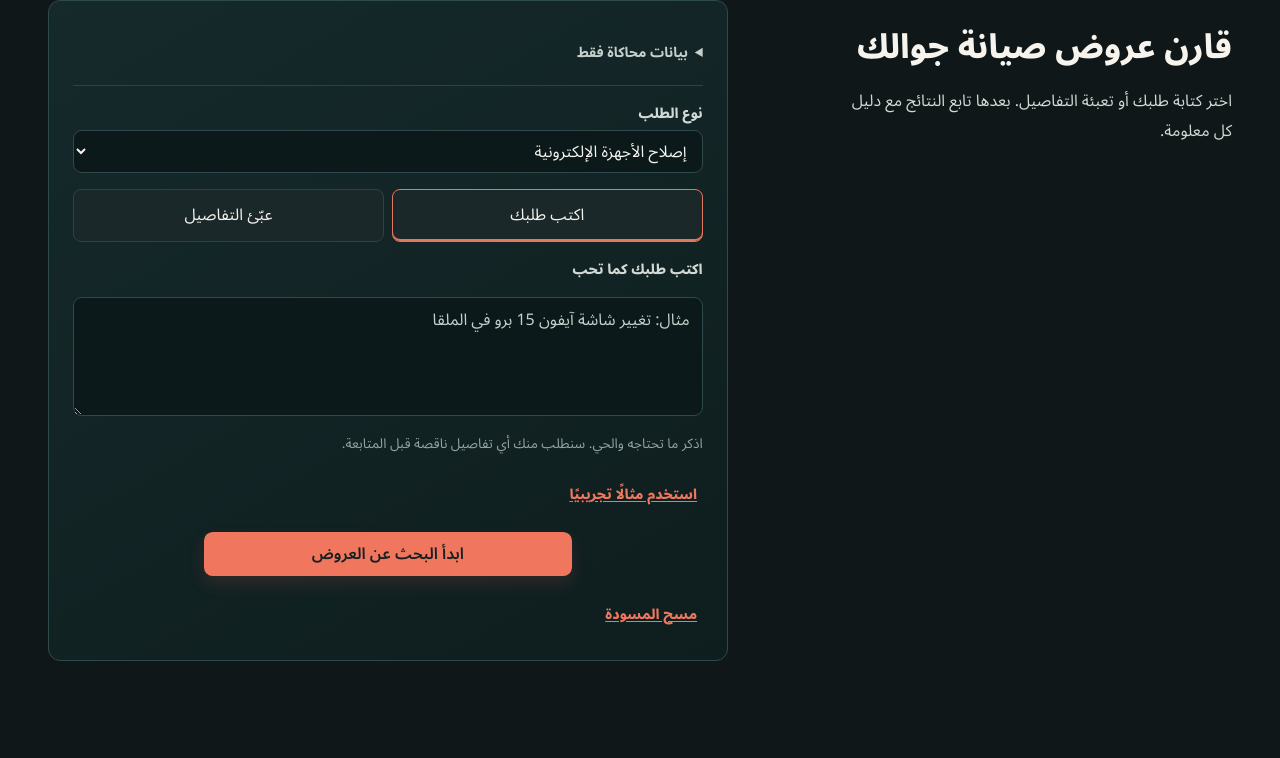
fixture task flow › shows follow-up questions and starts the fixture after answers are submitted
Type "أبي أغير شاشة جوالي" into the text box named "وش تبي تصلّح؟". click: (388, 356)
box: 73,297 -> 703,416
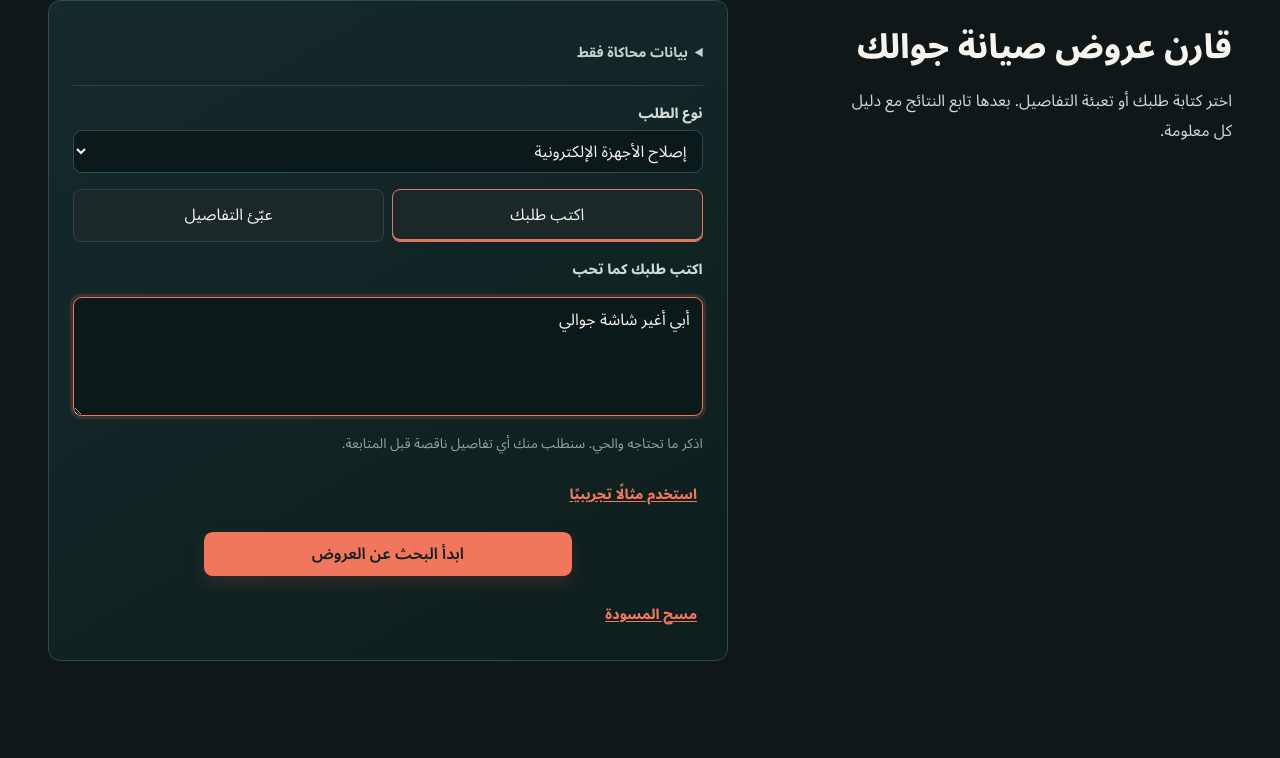
Click the button "ابدأ البحث عن العروض". click: (388, 554)
box: 204,532 -> 572,576
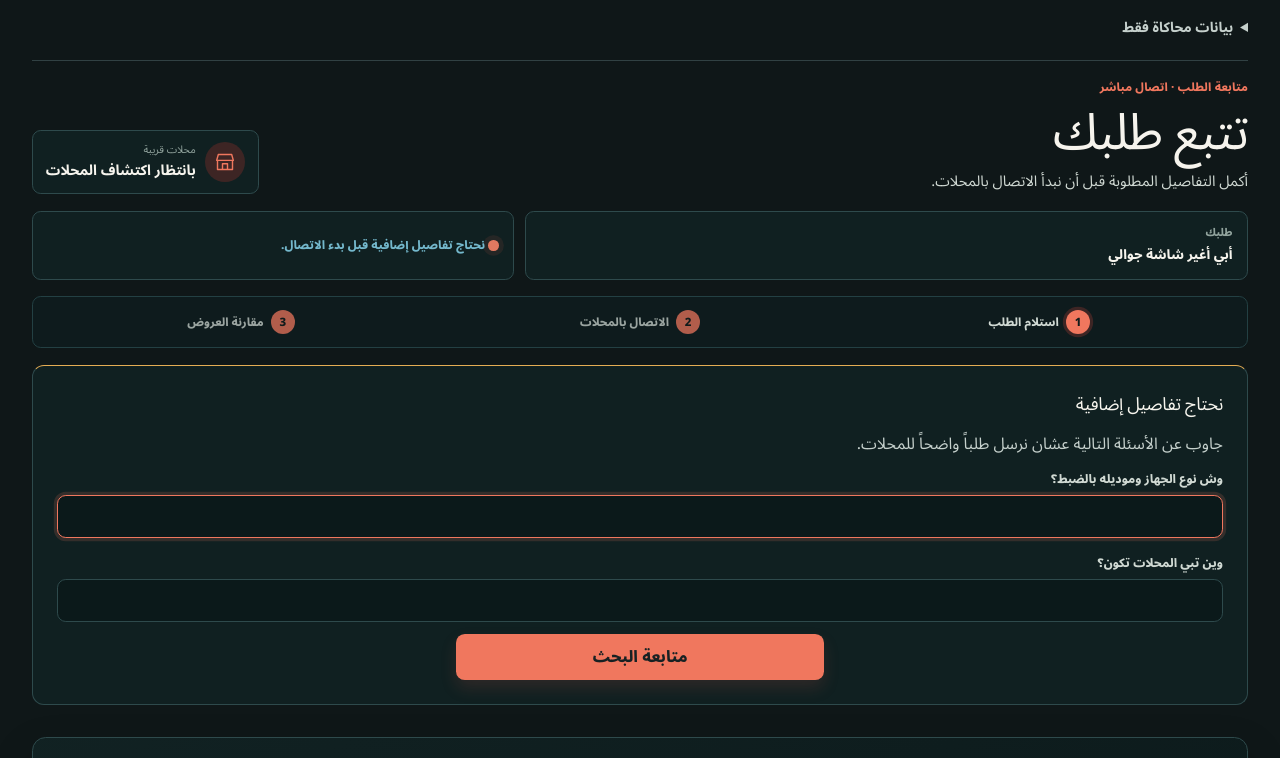
Check: the heading "نحتاج تفاصيل إضافية" is shown, box 1076,385 -> 1223,423
Check: the field labelled "وش نوع الجهاز وموديله بالضبط؟" is shown
Check: the field labelled "وين تبي المحلات تكون؟" is shown, box 57,579 -> 1223,622
Type "iPhone 15 Pro" into the field labelled "وش نوع الجهاز وموديله بالضبط؟". click: (640, 516)
box: 57,495 -> 1223,538
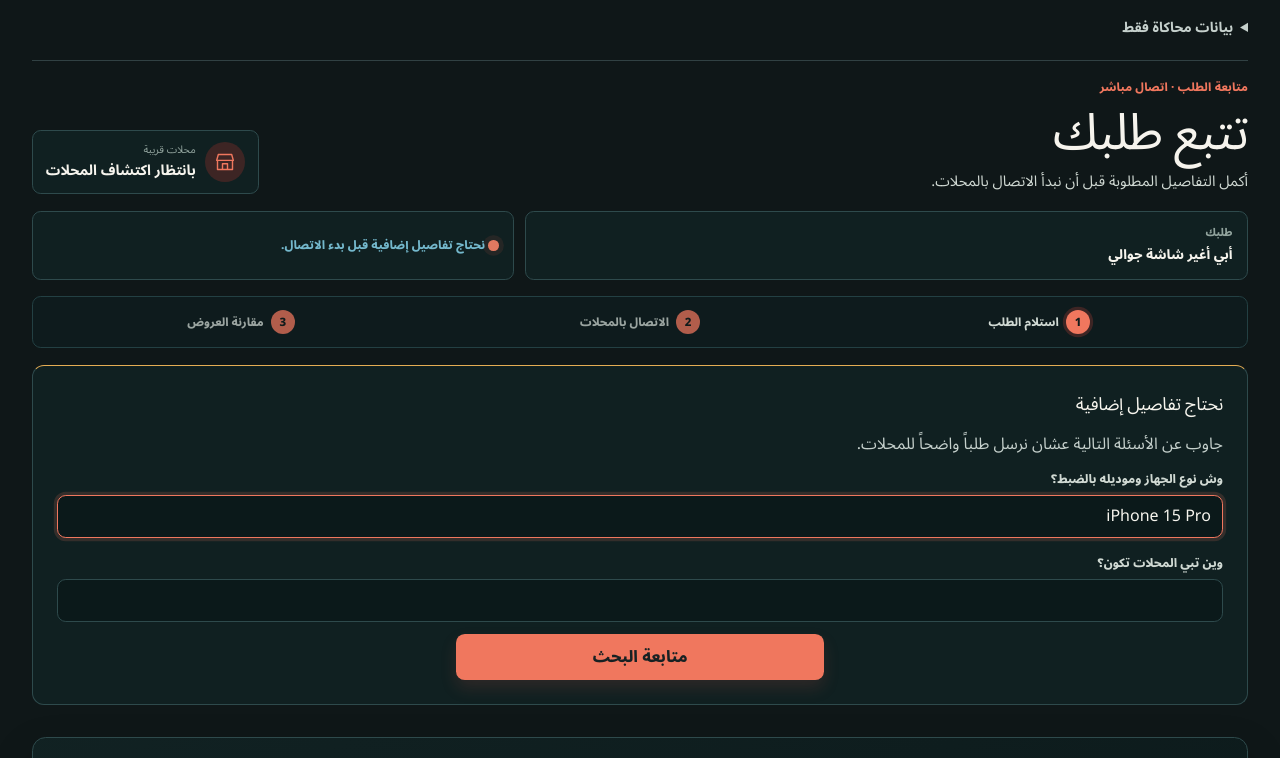
Type "حي الملقا" into the field labelled "وين تبي المحلات تكون؟". click: (640, 600)
box: 57,579 -> 1223,622
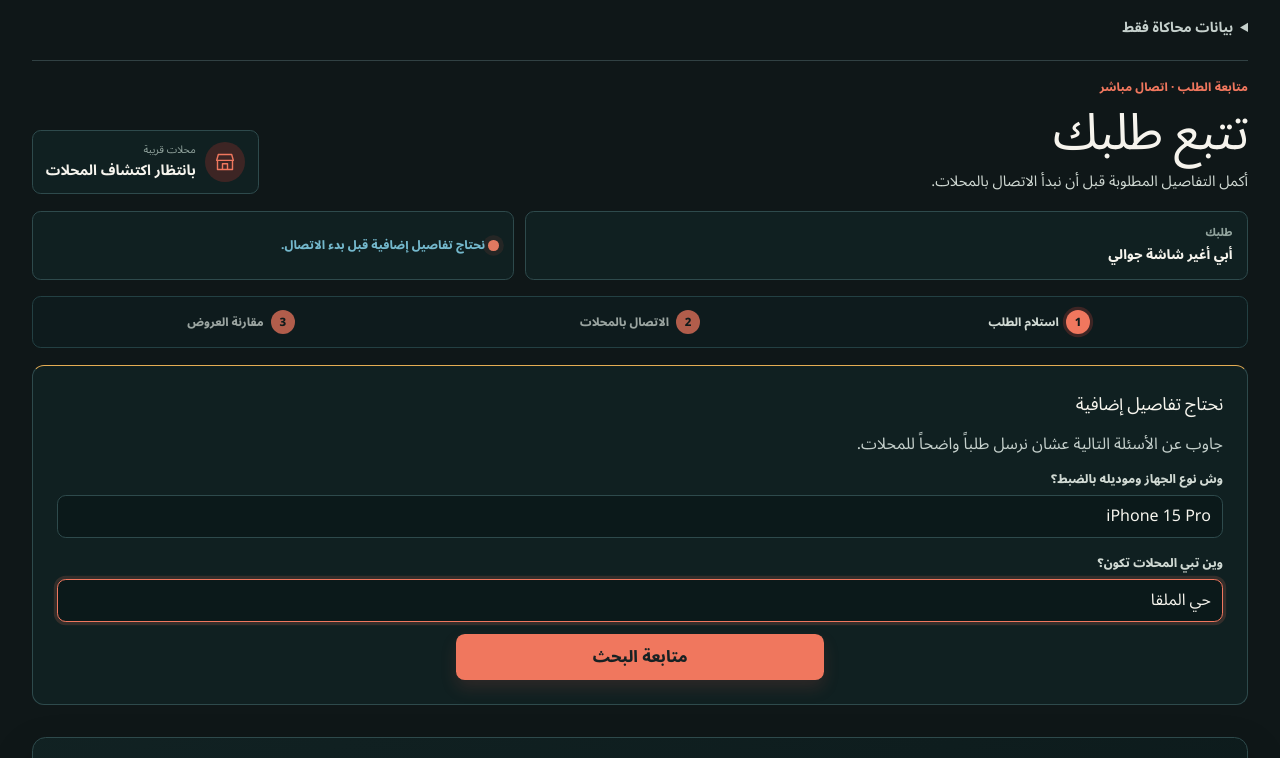
Click the button "متابعة البحث". click: (640, 657)
box: 456,634 -> 824,680
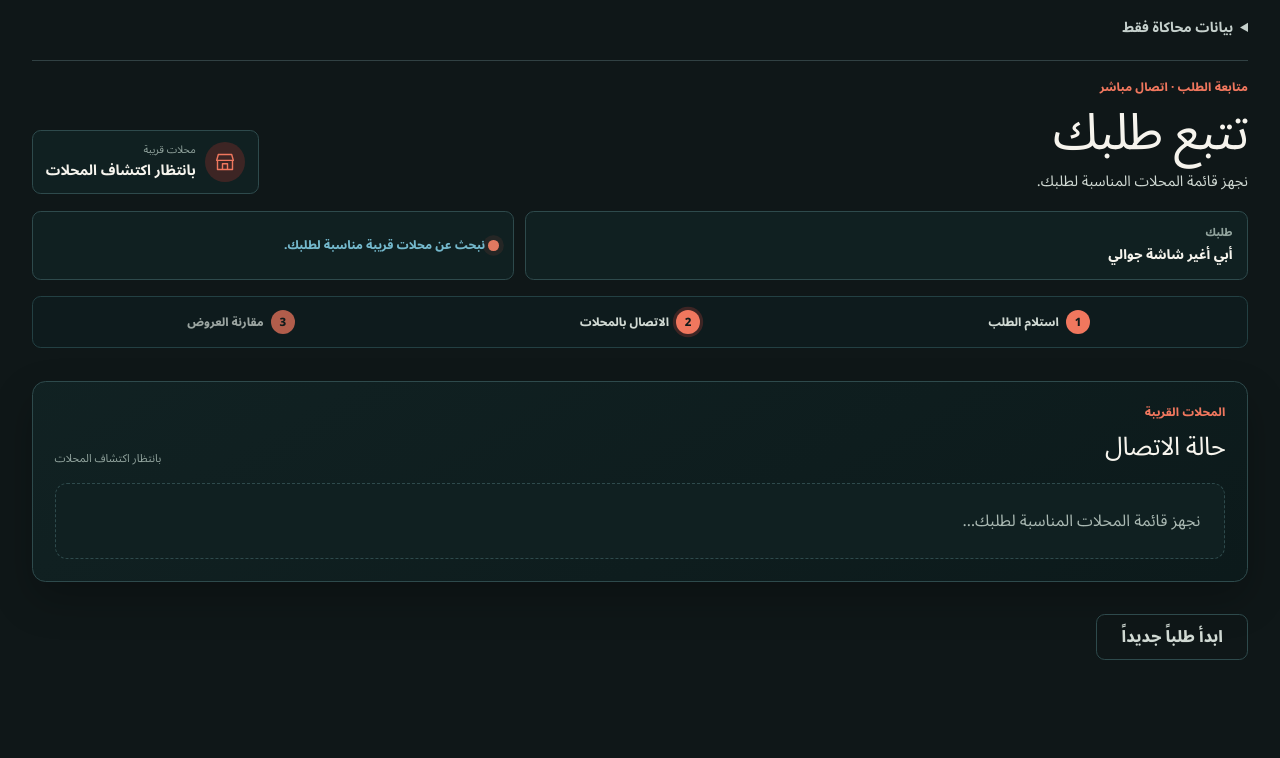
Check: the text "نبحث عن محلات قريبة مناسبة لطلبك." is shown, box 32,211 -> 514,280
